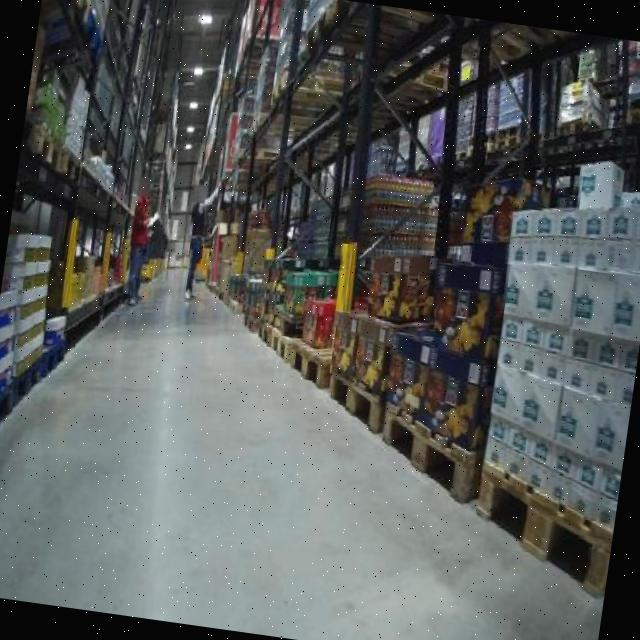pallet: (456, 443, 622, 605), (368, 386, 498, 514), (312, 346, 398, 446), (276, 324, 346, 386), (255, 308, 298, 356)
